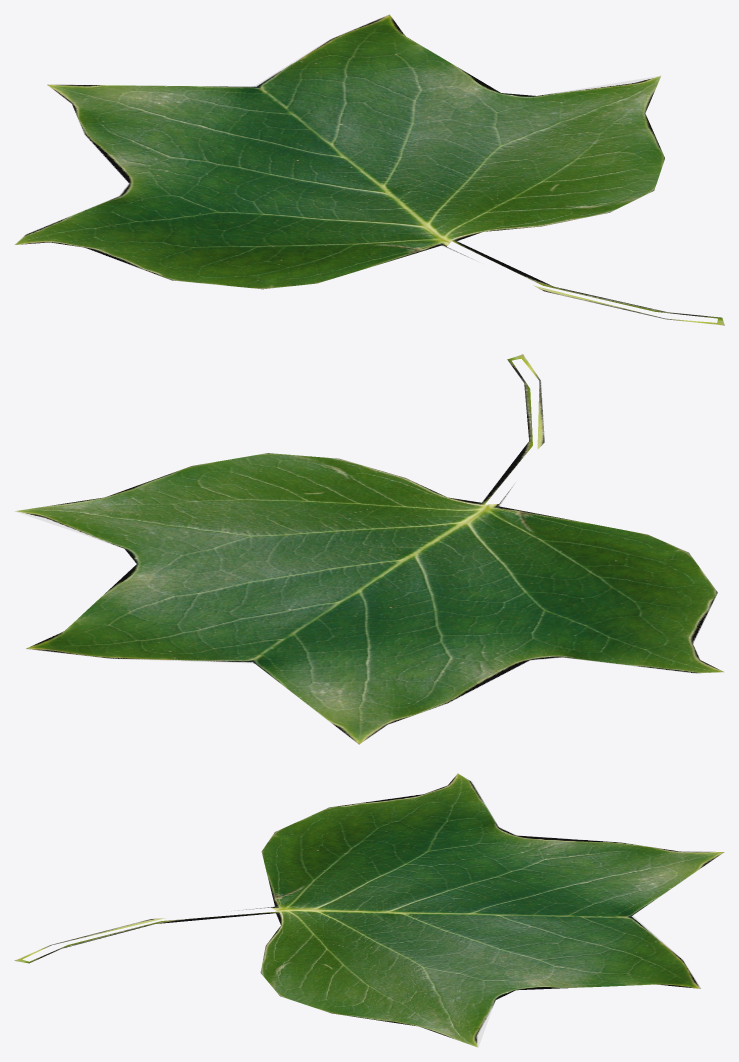
Rendered from leaf_model.glb.
3 views of the same model, one above another, from view 1: azimuth 30°, elevation 25°; view 2: azimuth 150°, elevation 25°; view 3: azimuth 270°, elevation 25° (orthographic). The views are drawn at different scales.
Visible parts, largest first — view 1: LeafObject; view 2: LeafObject; view 3: LeafObject.
Boxes of the visible parts, left/top/right/bottom form: LeafObject: left=14, top=14, right=724, bottom=325; LeafObject: left=14, top=354, right=724, bottom=744; LeafObject: left=14, top=773, right=724, bottom=1047.
Bounding box in the file's own units: 635 × 0 × 695.
1 material, 1 textured.
